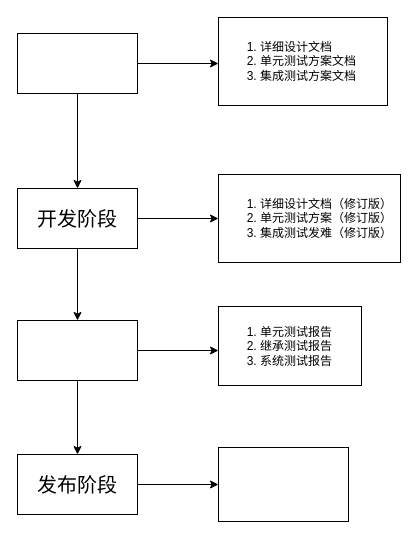
The diagram is 418 pixels wide and 539 high, and some of its shapes have lost their labels. Each missing label, with the centre of its shape:
"安装手册 用户手册 升级指导书" belongs at point 283,484.
"测试阶段" belongs at point 77,350.
"计划阶段" belongs at point 77,63.
